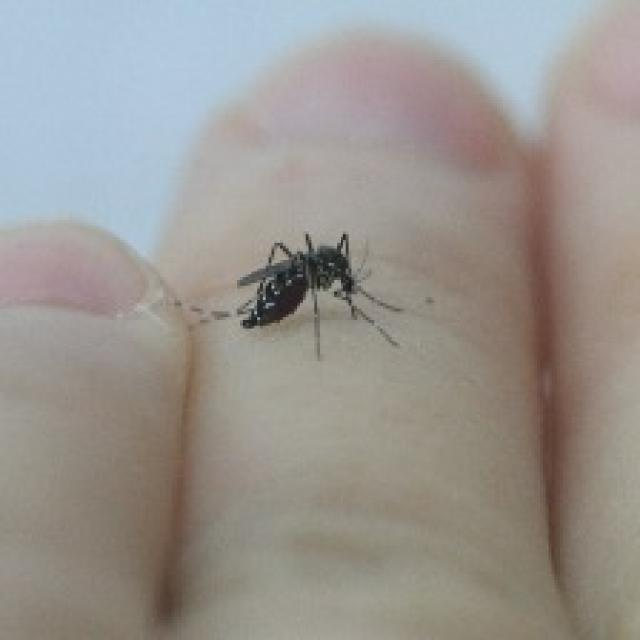aedes: (194, 226, 409, 360)
